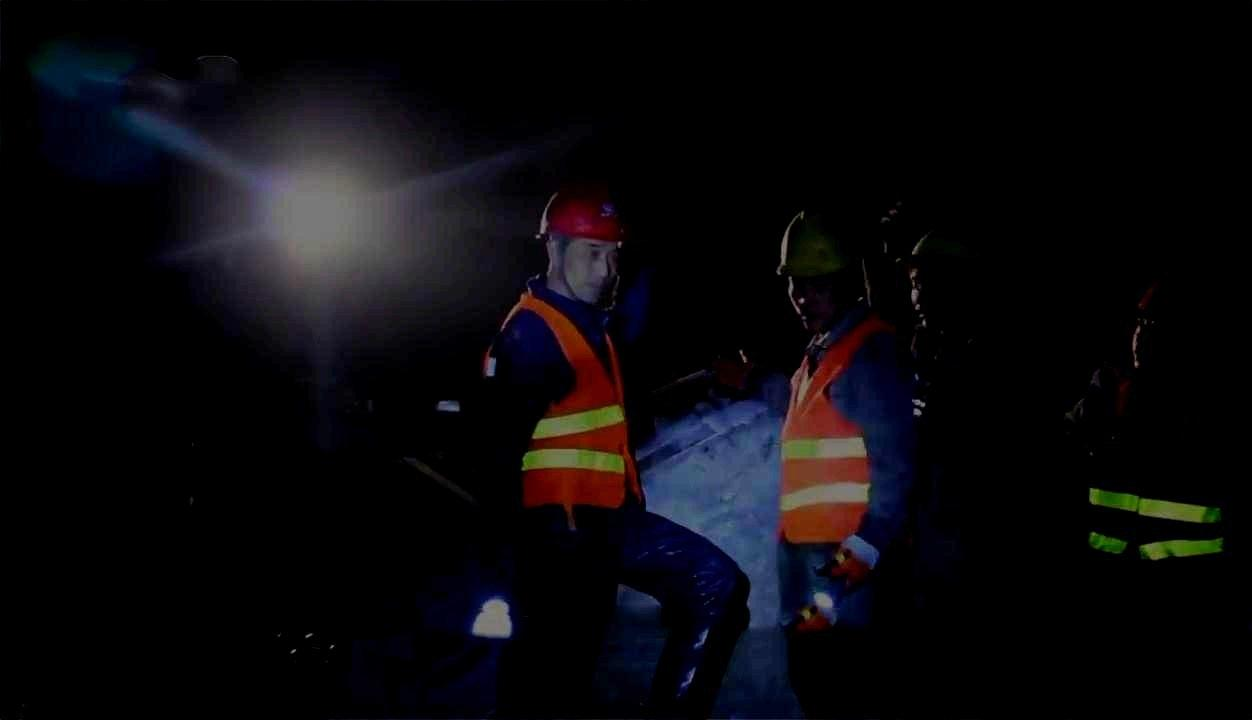helmet: (775, 203, 868, 333), (534, 180, 628, 307), (893, 221, 997, 328), (1126, 266, 1227, 376)
